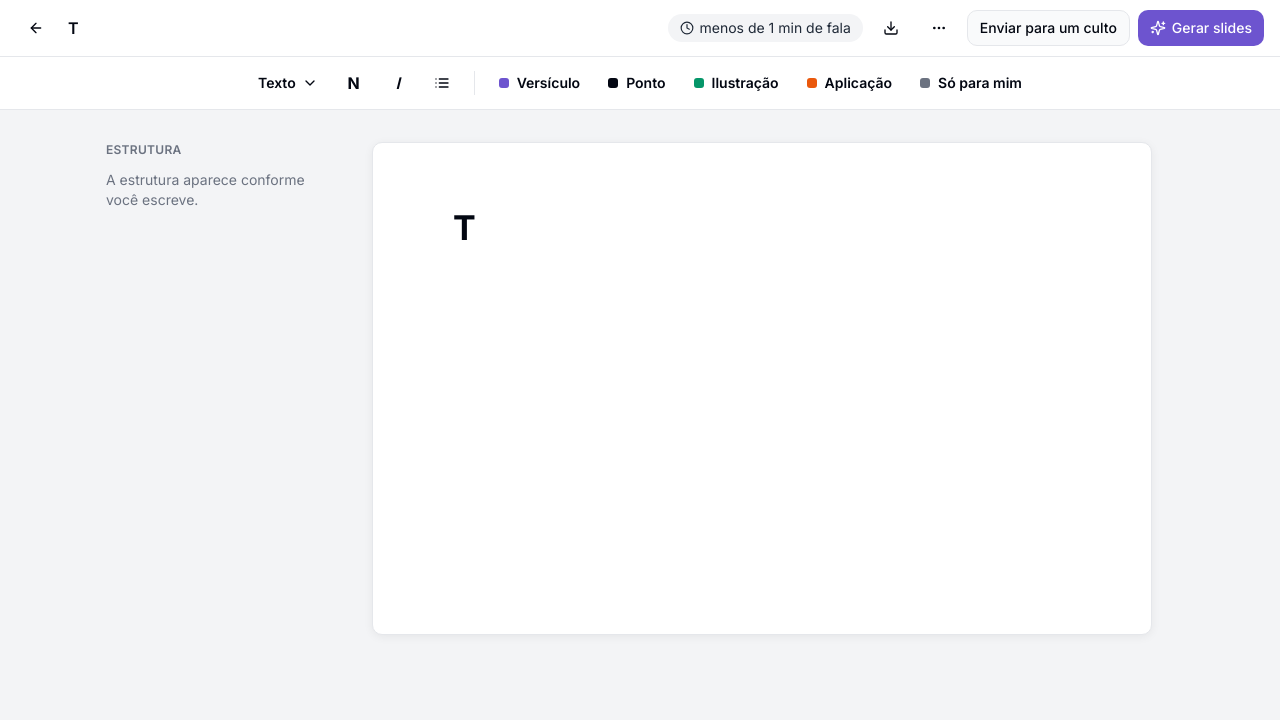
SermonEditorPage › sem slides: Gerar slides e, ao lado, Enviar para um culto, que abre o envio com o salvamento do editor
The image size is (1280, 720).
Expected: the button "Gerar slides" is shown, [1138,10,1264,46]
Click the button "Enviar para um culto".
click(1048, 28)  # box [967,10,1130,46]
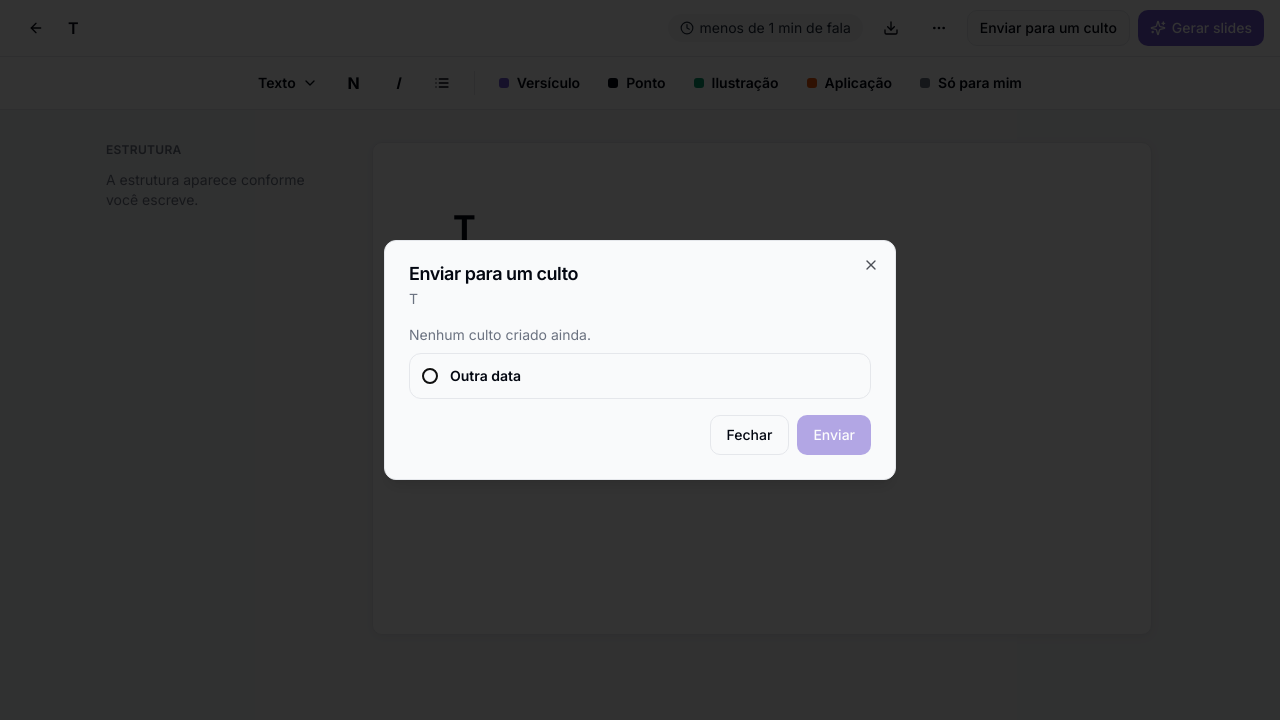
Expected: the dialog "Enviar para um culto" is shown, [384,240,896,480]
